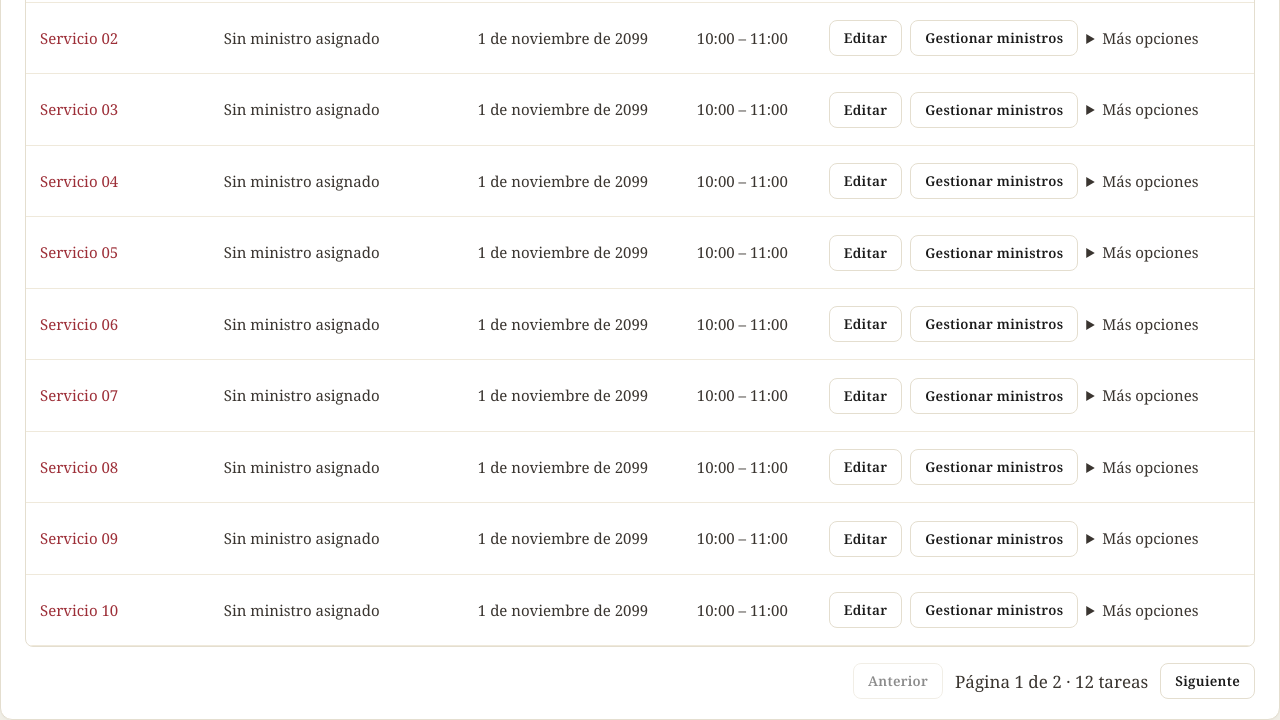
tareas agrupadas y tarjeta de asignación › muestra una fila por tarea, dos nombres y diez tareas por página
(page scrolled)
Click the button "Siguiente".
click(1208, 681)  # box [1160, 663, 1255, 699]
(page scrolled)
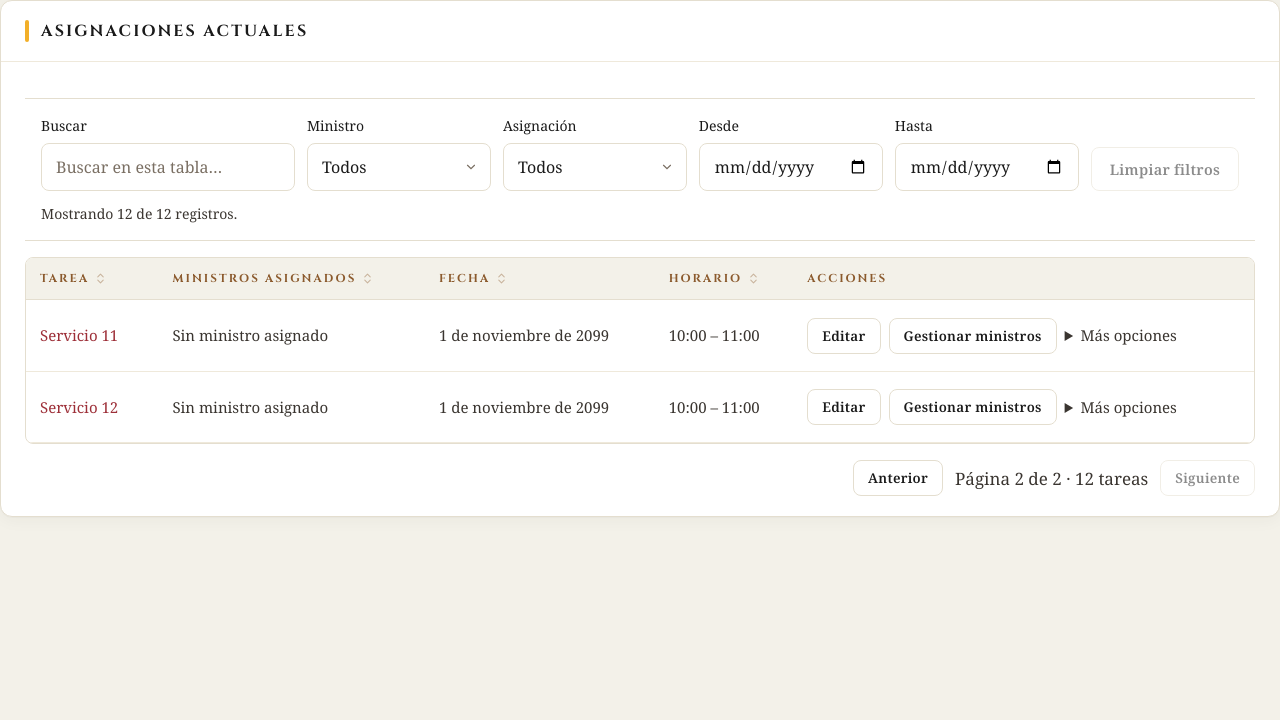
Check: the number of rows is 3, box [26, 258, 1254, 300]; [26, 300, 1254, 371]; [26, 371, 1254, 443]
Check: the text "Página 2 de 2 · 12 tareas" is shown, box [955, 466, 1148, 491]
Type "Lectura" into the search field labelled "Buscar".
click(168, 167); type("Lectura")  # box [41, 143, 295, 191]
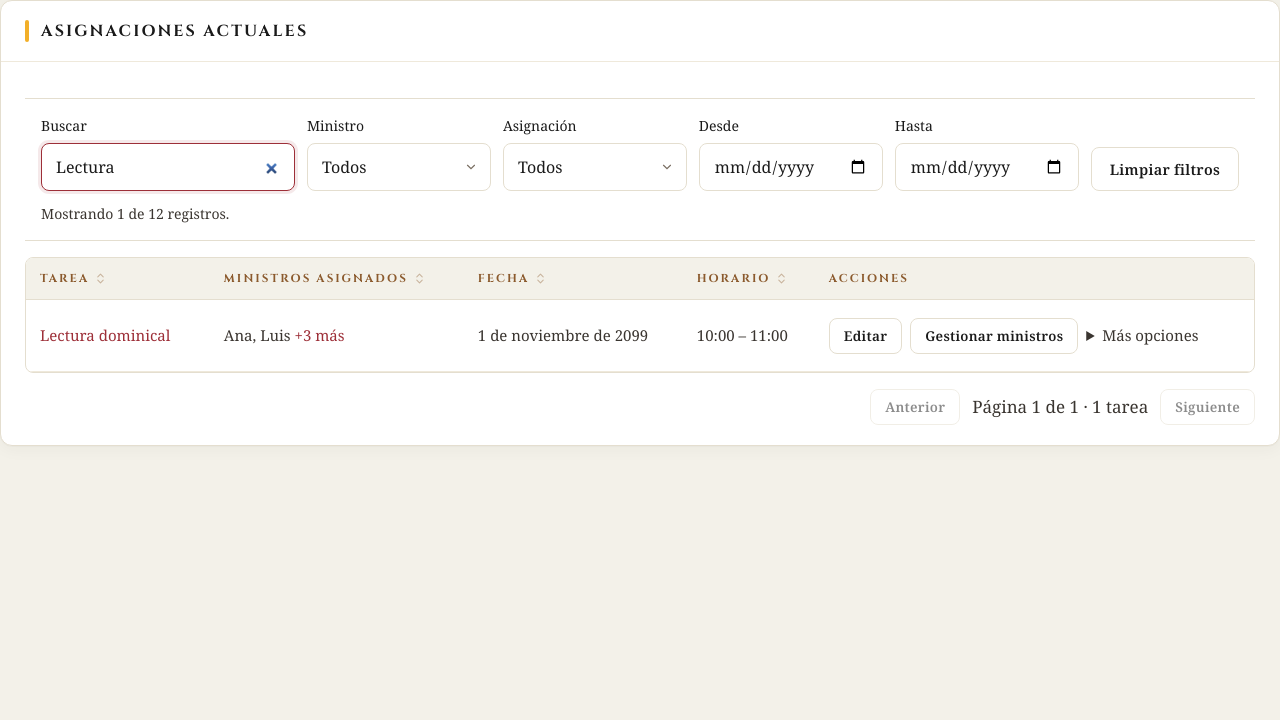
Check: the cell "Lectura dominical" is shown, box [26, 300, 210, 371]
Check: the button "Anterior" is disabled, box [870, 389, 960, 425]
